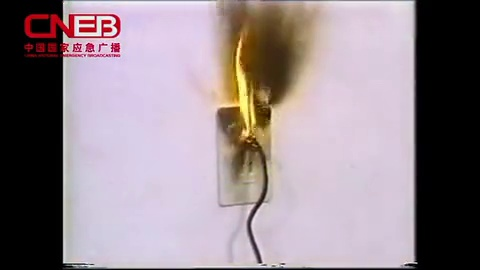fire: (226, 29, 266, 148)
